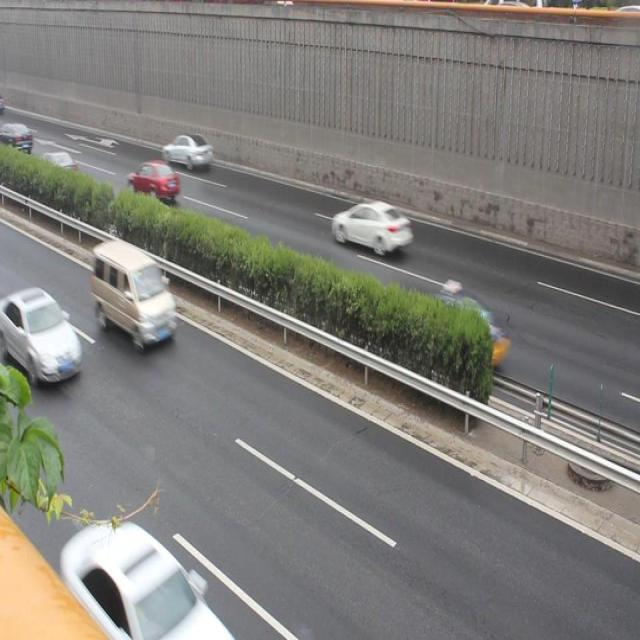car: (62, 518, 231, 640), (390, 291, 508, 366), (1, 287, 82, 385), (333, 201, 411, 254), (126, 159, 178, 202), (163, 133, 213, 174), (40, 153, 76, 185)
truck: (92, 242, 176, 344)
